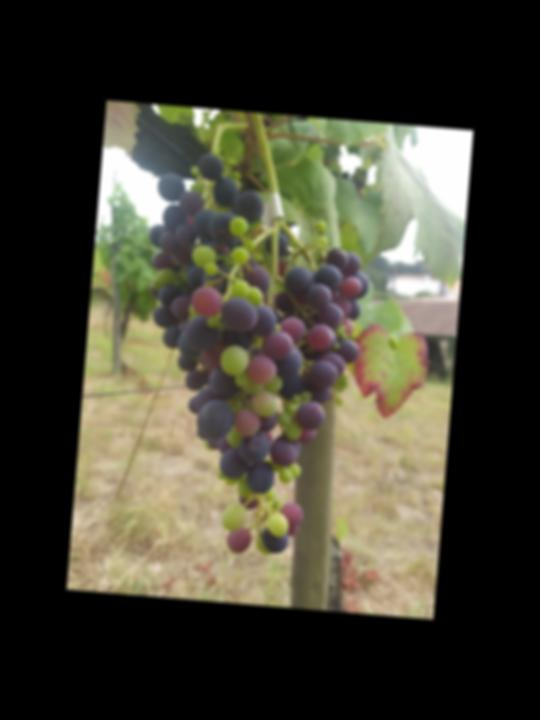grape: (121, 141, 382, 564)
